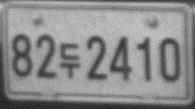0: (158, 36, 181, 82)
1: (135, 34, 152, 83)
2: (85, 35, 108, 81), (36, 33, 57, 78)
4: (108, 35, 133, 80)
8: (10, 32, 33, 77)
두: (58, 42, 81, 79)
